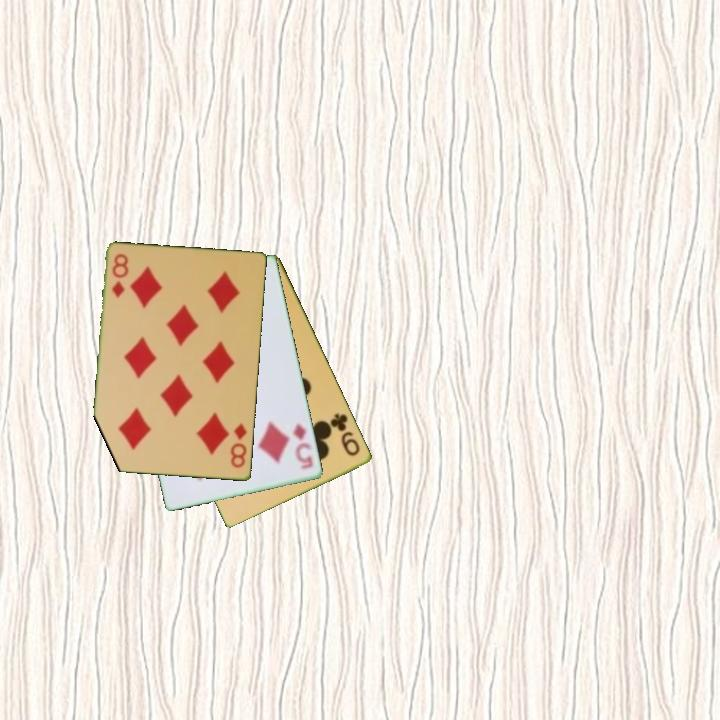5d: (289, 421, 316, 472)
8d: (227, 419, 250, 471), (109, 250, 131, 301)
9c: (327, 409, 363, 459)
